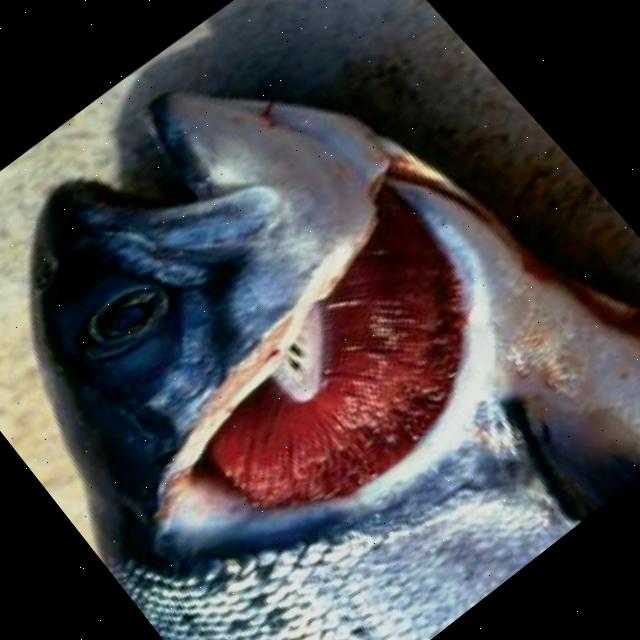Flavobacterium -Bacterial Gill Disease-: (31, 89, 640, 640), (30, 93, 640, 640), (31, 95, 640, 640), (31, 98, 640, 640)
